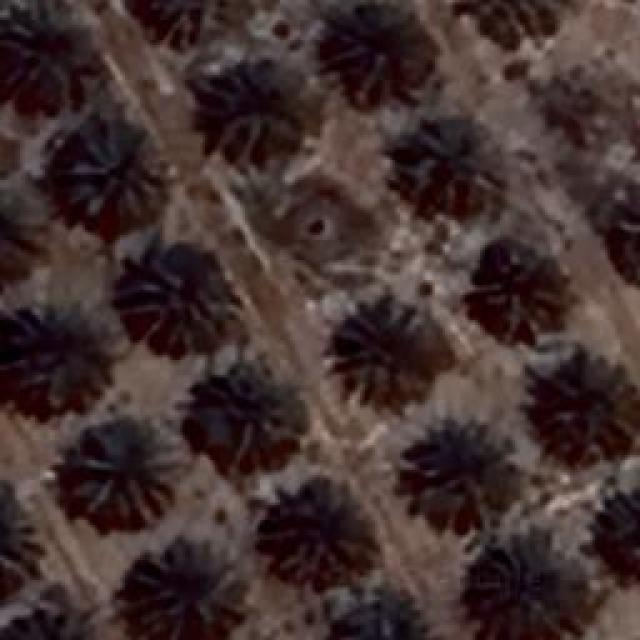PalmTree: (121, 242, 236, 352), (330, 305, 442, 413), (530, 351, 640, 459), (474, 540, 592, 640), (70, 420, 183, 522), (326, 5, 434, 110), (198, 376, 306, 479), (0, 0, 105, 105), (0, 305, 102, 410), (62, 120, 168, 220), (406, 431, 522, 521), (402, 116, 502, 214), (468, 246, 568, 344), (128, 552, 238, 640), (270, 488, 372, 582), (206, 66, 309, 156), (112, 20, 512, 40), (538, 71, 608, 147), (0, 181, 48, 289), (0, 484, 42, 602), (0, 600, 107, 640), (331, 592, 419, 640), (605, 477, 640, 585), (604, 186, 640, 282), (108, 20, 178, 39)
